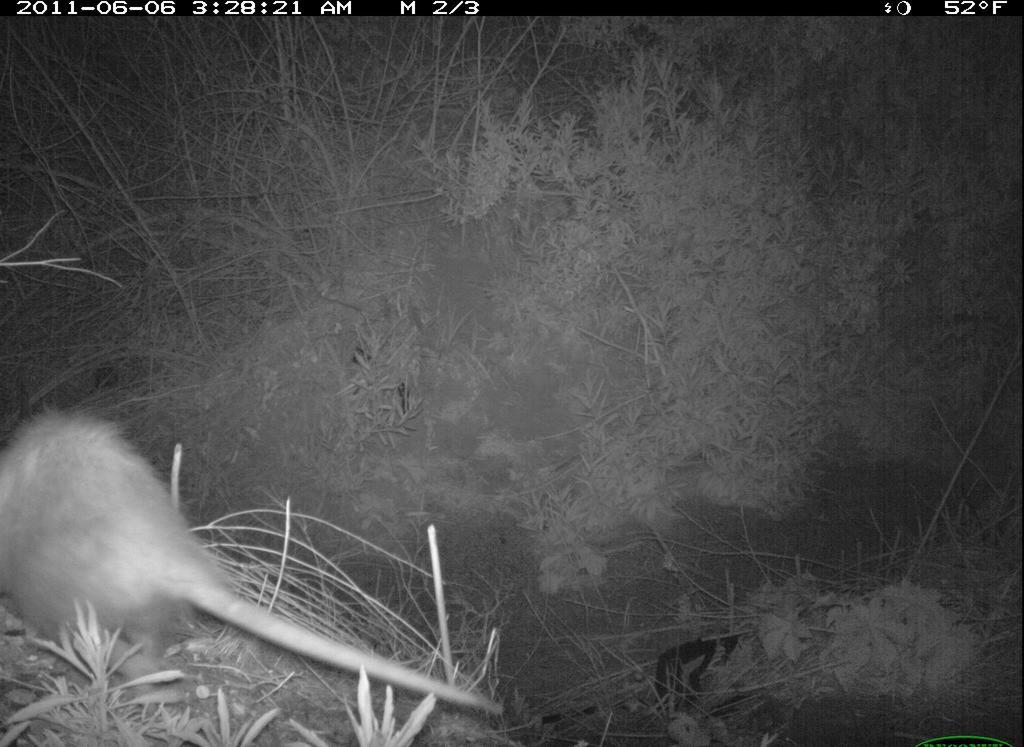opossum: (8, 387, 515, 743)
